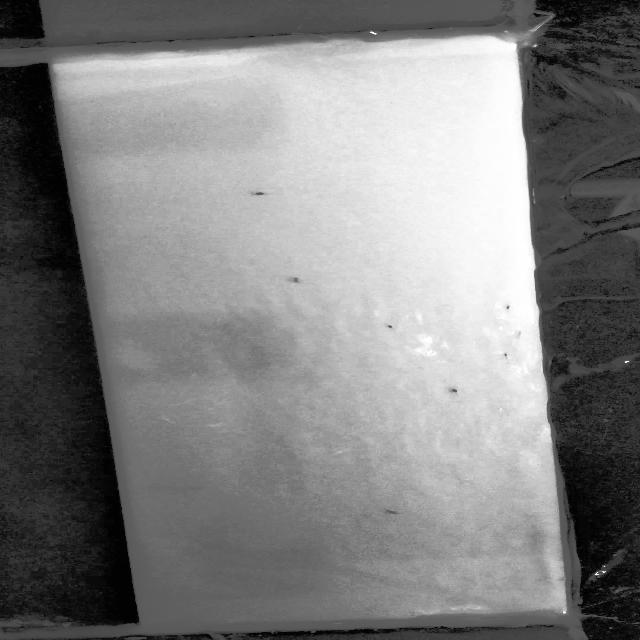shrimp: (364, 504, 420, 520), (273, 273, 307, 290), (442, 382, 471, 399), (489, 346, 516, 364), (240, 188, 278, 200), (497, 302, 518, 317), (374, 324, 402, 333)
